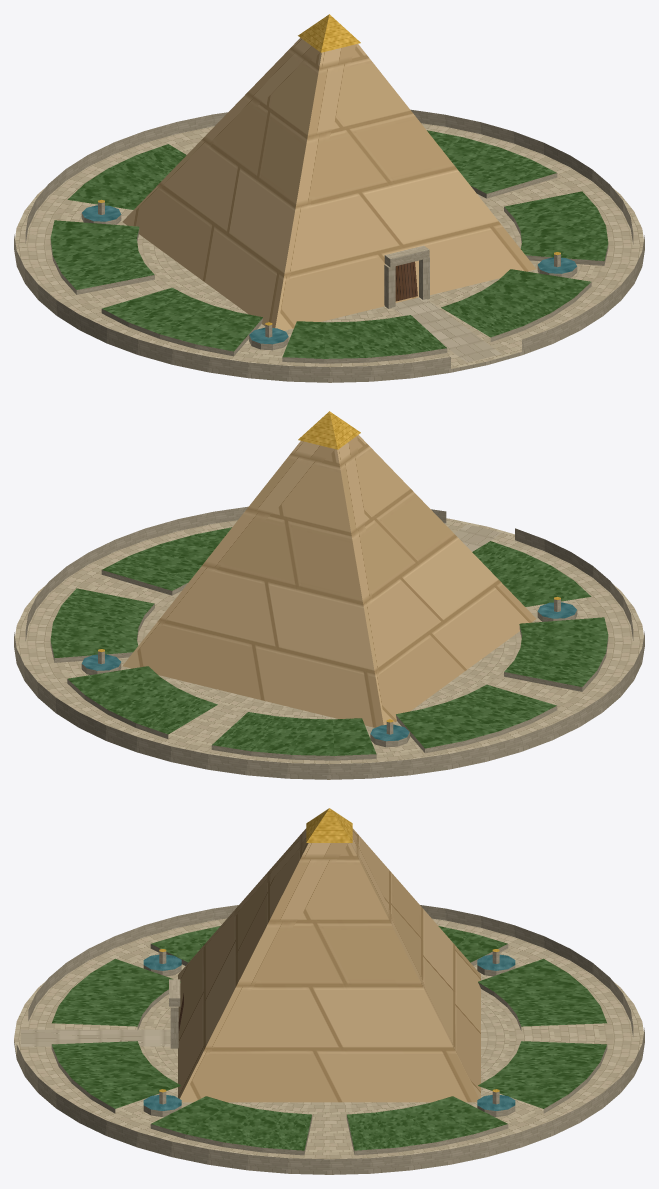
Rendered from pyramid_large_lod0.glb.
3 views of the same model, one above another, from view 1: azimuth 30°, elevation 25°; view 2: azimuth 150°, elevation 25°; view 3: azimuth 270°, elevation 25° (orthographic).
Parts seen in each view (by area): view 1: pyramid_large_lod0; view 2: pyramid_large_lod0; view 3: pyramid_large_lod0.
Boxes of the visible parts, x1,y1,x2,y2 form: pyramid_large_lod0: (14,14,644,382); pyramid_large_lod0: (14,411,644,779); pyramid_large_lod0: (14,808,644,1174).
Size of the model in its own units: 1.89 by 0.779 by 1.9.
1 material, 1 textured.
